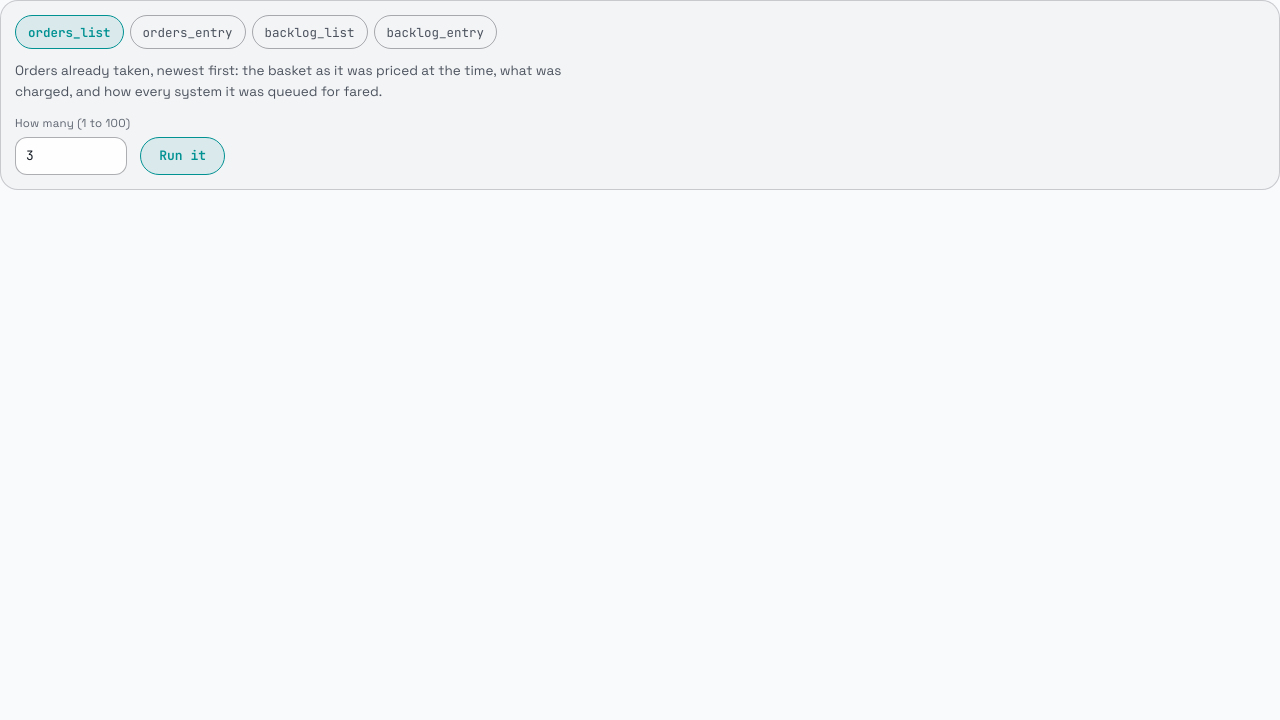
Test: McpConsole › shows the status the server answered with
What coordinates should you click on to do the following:
click the button with test id "mcp-run"
I would click on:
 (183, 156)
Its box is x1=140 y1=137 x2=225 y2=175.
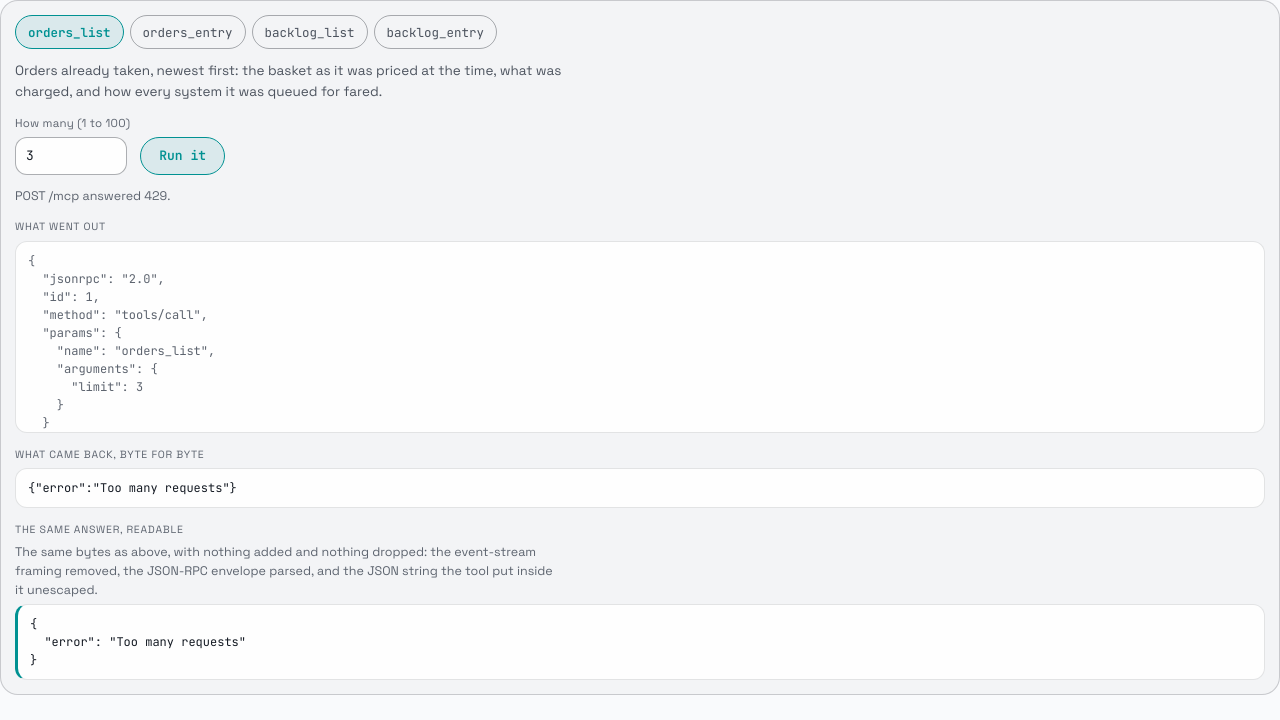
Check: the text with test id "mcp-status" shows "429", box x1=144 y1=188 x2=167 y2=204
